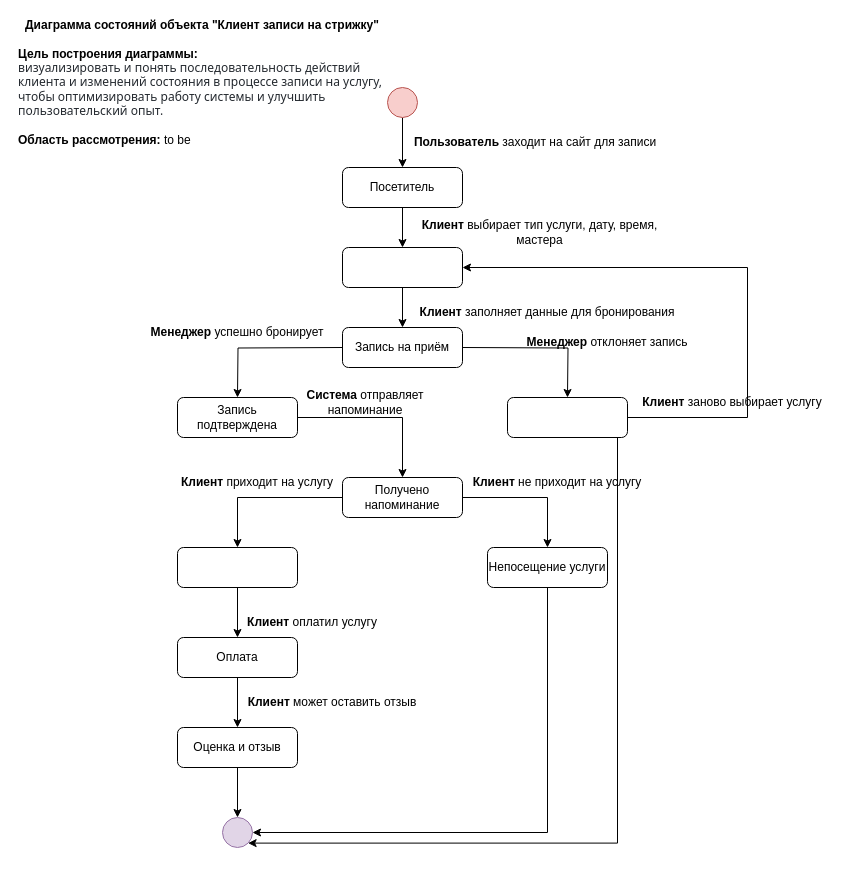
Image size: 854x869. Some labels were removed from this diagram. Here are the shapes that lost their labels. From the top down, the centre of each, then its label:
At (x=402, y=267): "Выбор услуги".
At (x=567, y=417): "Запись отклонена".
At (x=237, y=567): "Посещение услуги".
